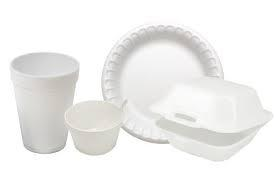Disposable tableware: (0, 4, 275, 183)
